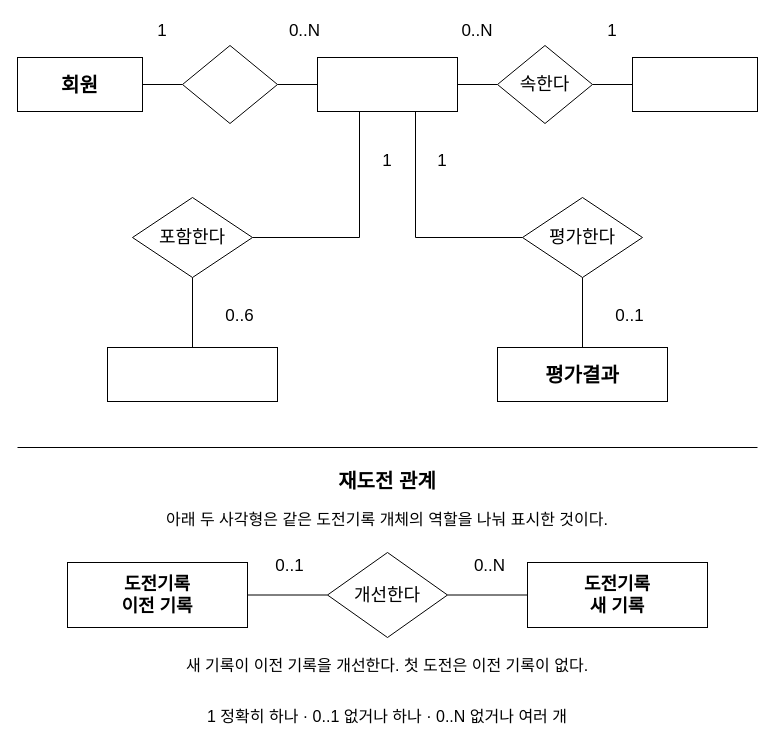
The diagram is 776 pixels wide and 746 high, and some of its shapes have lost their labels. The centre of each missing label's shape, as x and y in pixels:
남긴다: (230,84)
도전기록: (387,84)
미션: (695,84)
블록구성: (192,374)
